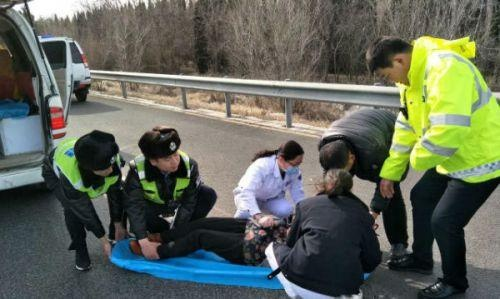falling: (127, 208, 311, 271)
